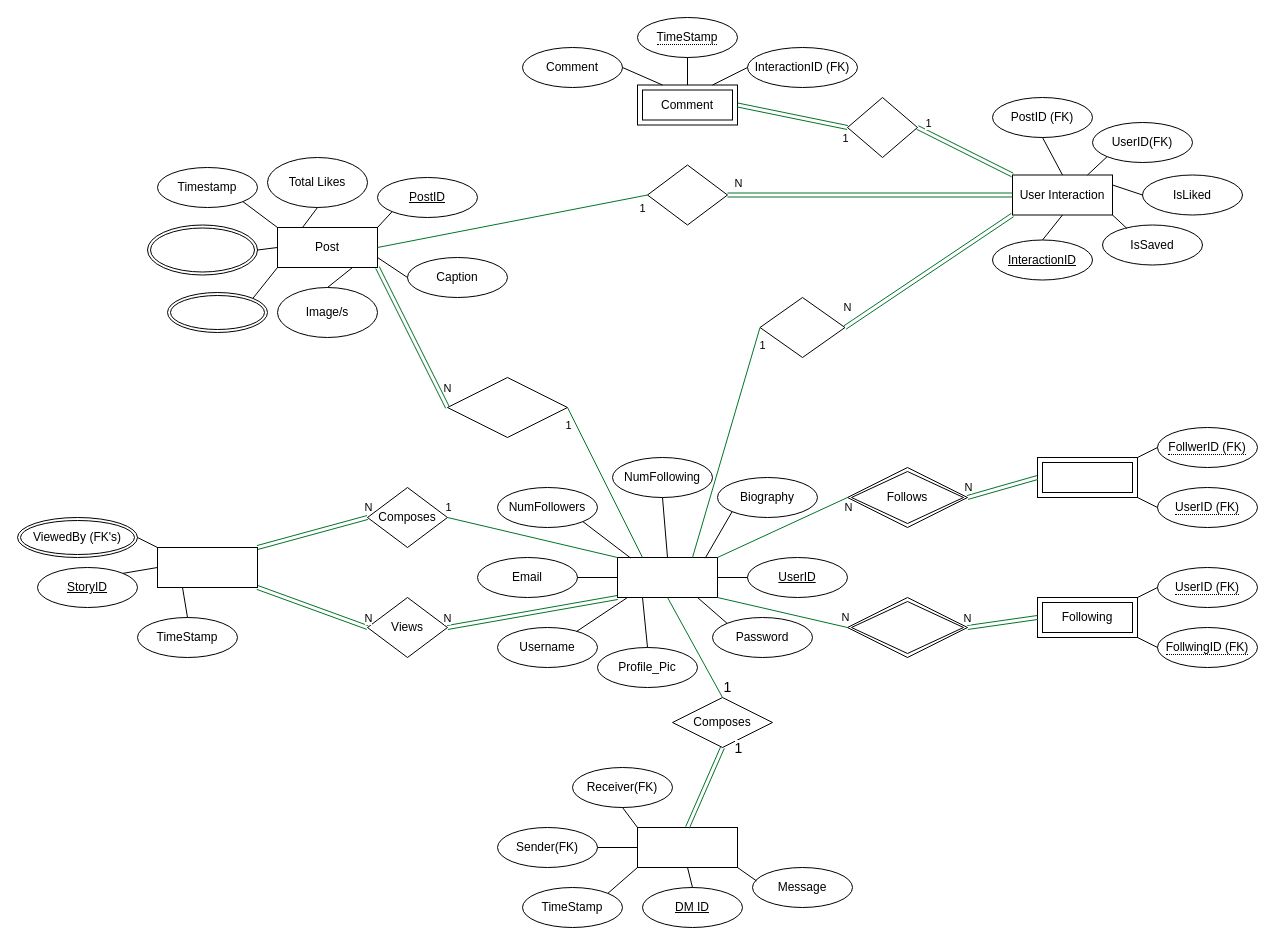
This 1275x945 diagram has some shape labels left out. Each missing label, with the box of its shape:
Applied to: (646, 164, 728, 225)
Builds: (759, 296, 845, 358)
Contains: (846, 96, 918, 158)
Creates: (446, 376, 568, 438)
Direct Message: (636, 826, 738, 868)
Follower: (1036, 456, 1138, 498)
Interaction ID's (FK): (166, 292, 268, 332)
Is Following: (846, 596, 968, 658)
Story: (156, 546, 258, 588)
Tagged Users (FK's): (146, 224, 258, 275)
User: (616, 556, 718, 598)
